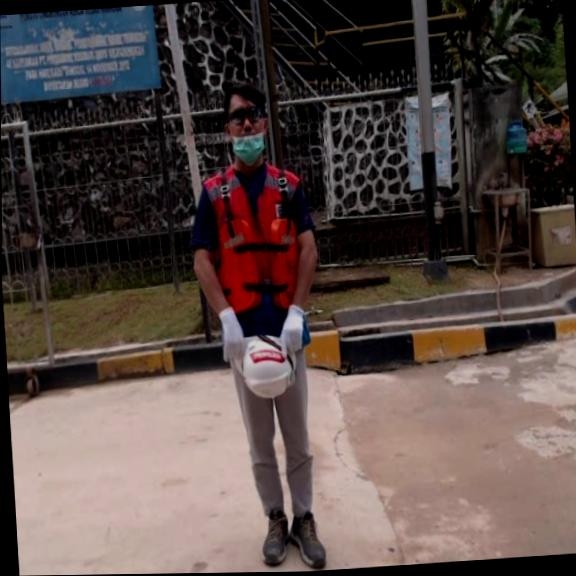safety_vest: (217, 220, 297, 309)
